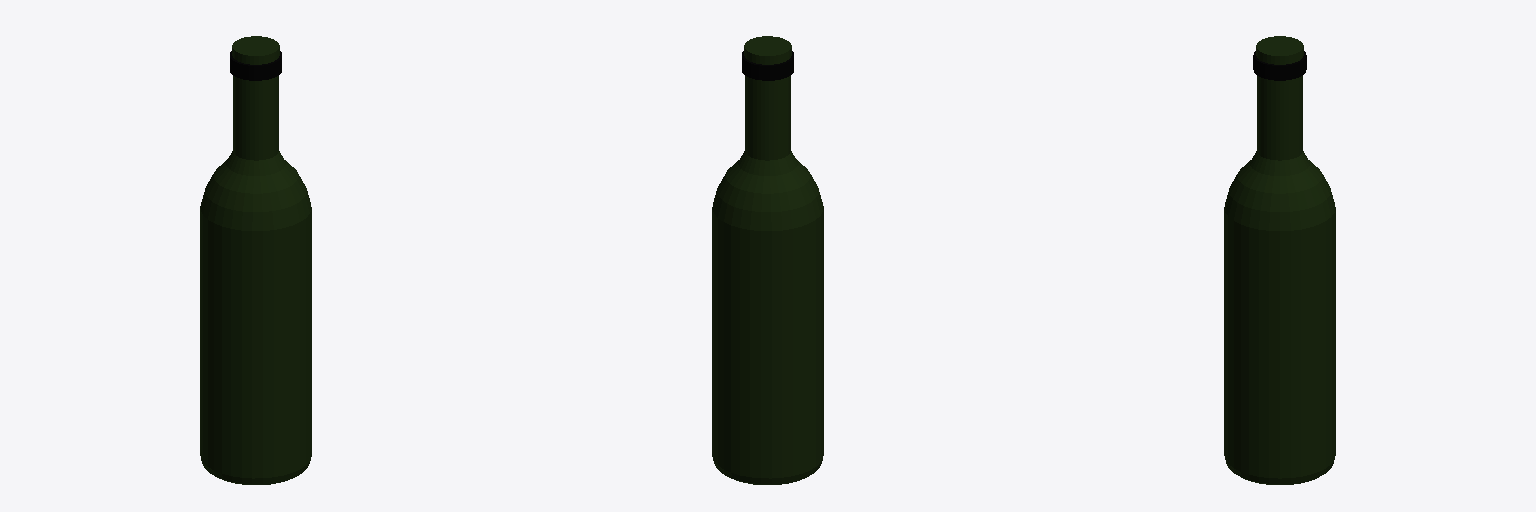
Rendered from Bottle.obj.
3 renders of one model, left to right at view 1: azimuth 30°, elevation 25°; view 2: azimuth 150°, elevation 25°; view 3: azimuth 270°, elevation 25°, orthographic.
Visible parts, largest first — view 1: Flasche_Cylinder; view 2: Flasche_Cylinder; view 3: Flasche_Cylinder.
Part boxes in pixels (x1,y1,x2,y2): Flasche_Cylinder: (200, 36, 311, 484); Flasche_Cylinder: (712, 36, 823, 484); Flasche_Cylinder: (1224, 36, 1335, 484).
Size of the model in its own units: 0.0954 by 0.3959 by 0.0954.